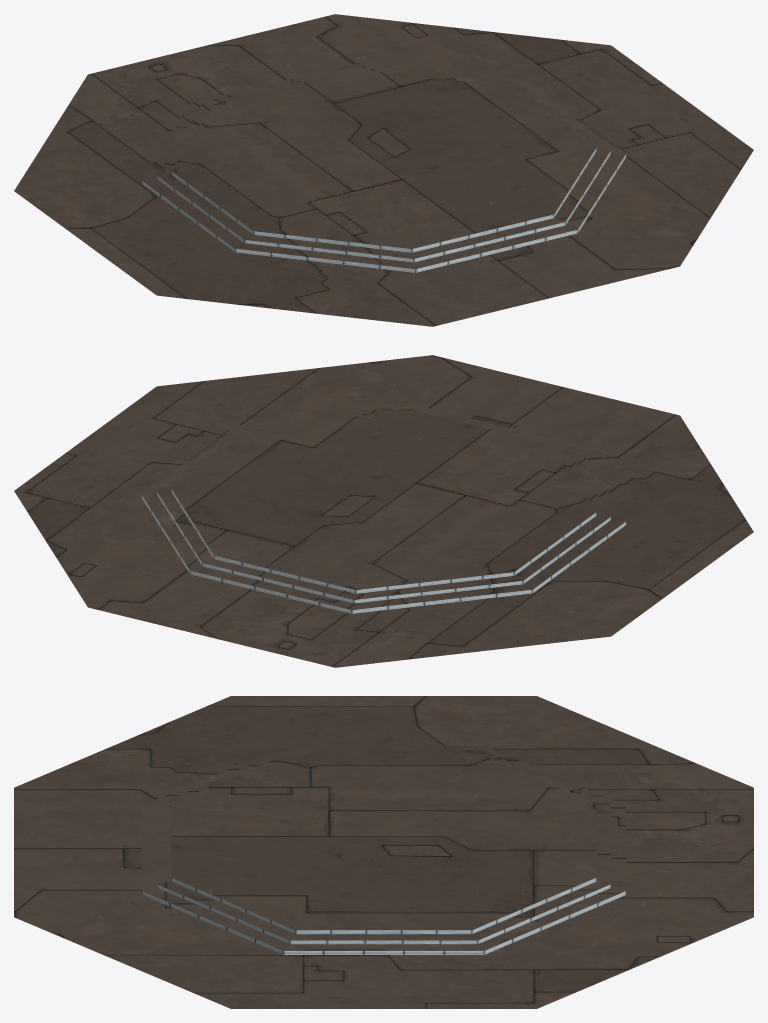
Rendered from ceiling.FBX.
3 renders of one model, top to bottom at view 1: azimuth 30°, elevation 25°; view 2: azimuth 150°, elevation 25°; view 3: azimuth 270°, elevation 25°, orthographic. The views are drawn at different scales.
Parts seen in each view (by area): view 1: ceiling; view 2: ceiling; view 3: ceiling.
Part boxes in pixels (left/top/right/bottom): ceiling: left=14, top=14, right=753, bottom=326; ceiling: left=14, top=355, right=753, bottom=667; ceiling: left=14, top=696, right=753, bottom=1008.
Bounding box in the file's own units: 98534 × 1795 × 98534.
Materials: 2 (2 with a texture image).
